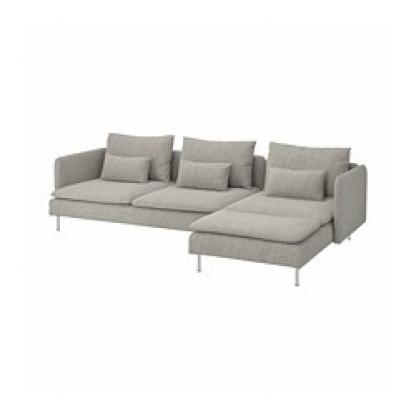Sofa: (40, 103, 374, 295)
